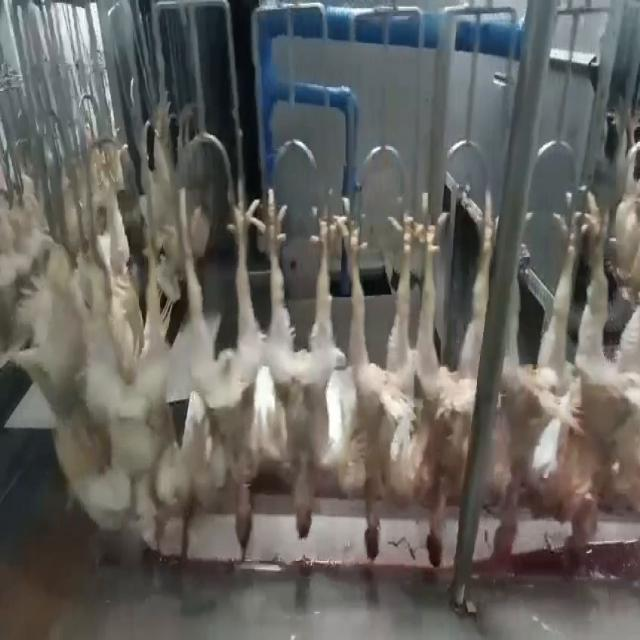chicken: (412, 187, 500, 572), (346, 197, 424, 563), (263, 195, 343, 543), (544, 190, 612, 572), (189, 186, 259, 556), (112, 204, 177, 546), (36, 206, 107, 516), (494, 213, 546, 572), (614, 130, 640, 302)
